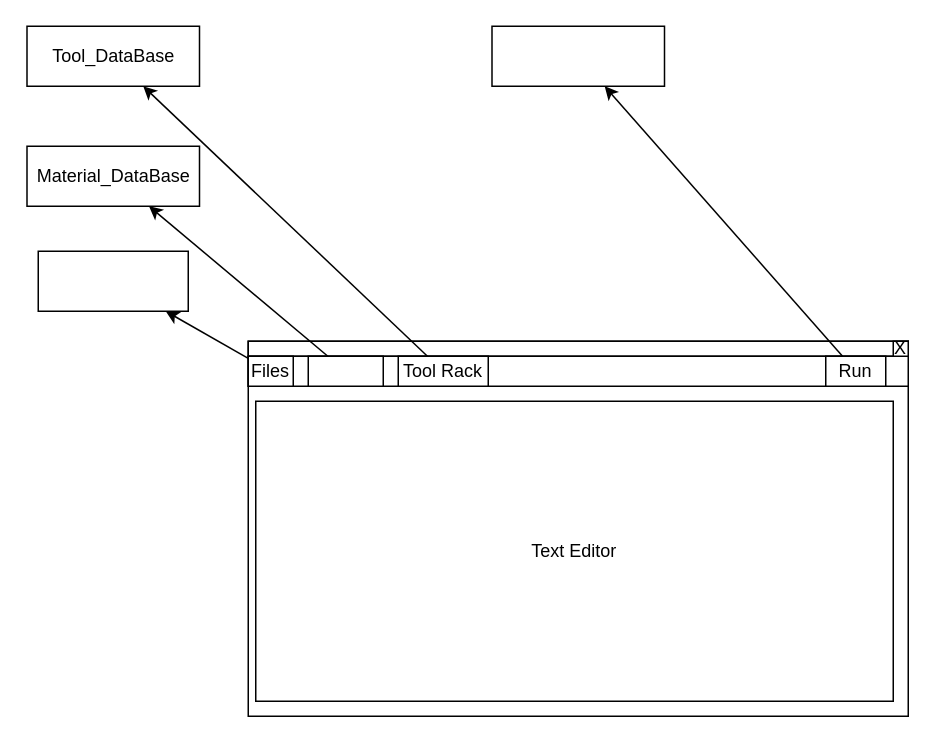
This 935x743 diagram has some shape labels left out. The centre of each missing label's shape, as x and y in pixels:
FileExplorer: [112,280]
Material: [345,370]
Run_Window: [577,55]
